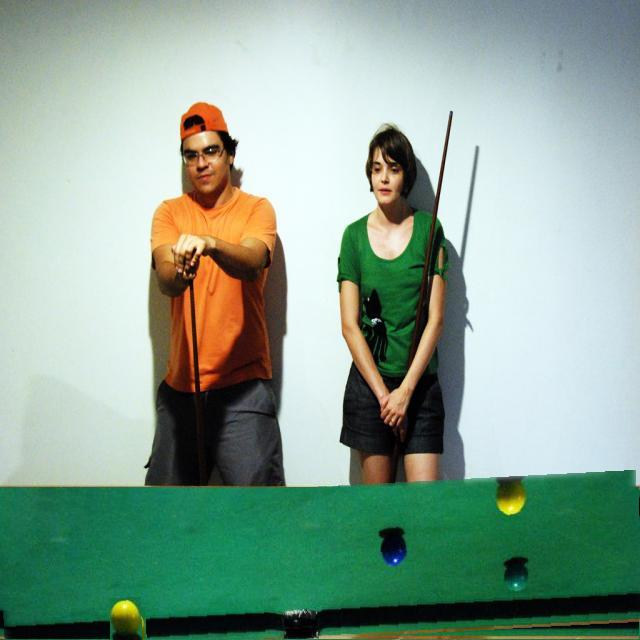Ball: (109, 597, 142, 640), (229, 557, 260, 593), (110, 521, 138, 554)
Billiard table: (0, 478, 640, 640)
